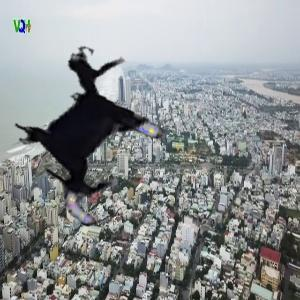drone: (1, 42, 191, 232)
